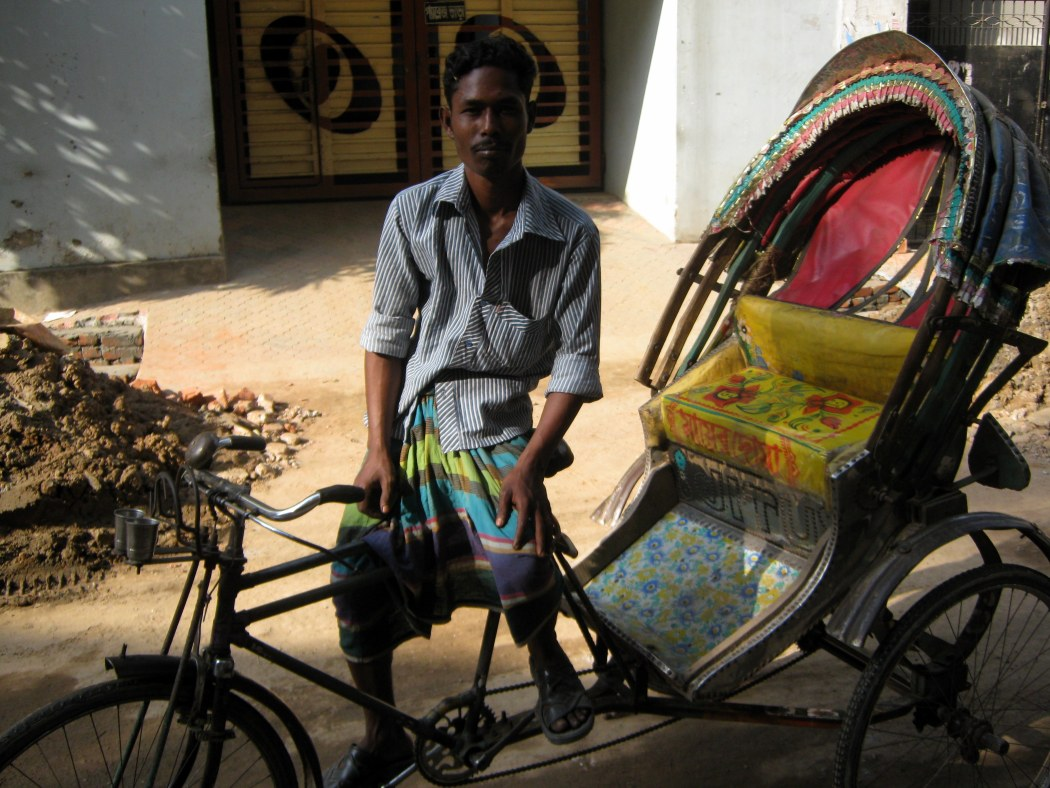Rickshaw: (21, 36, 1028, 787)
